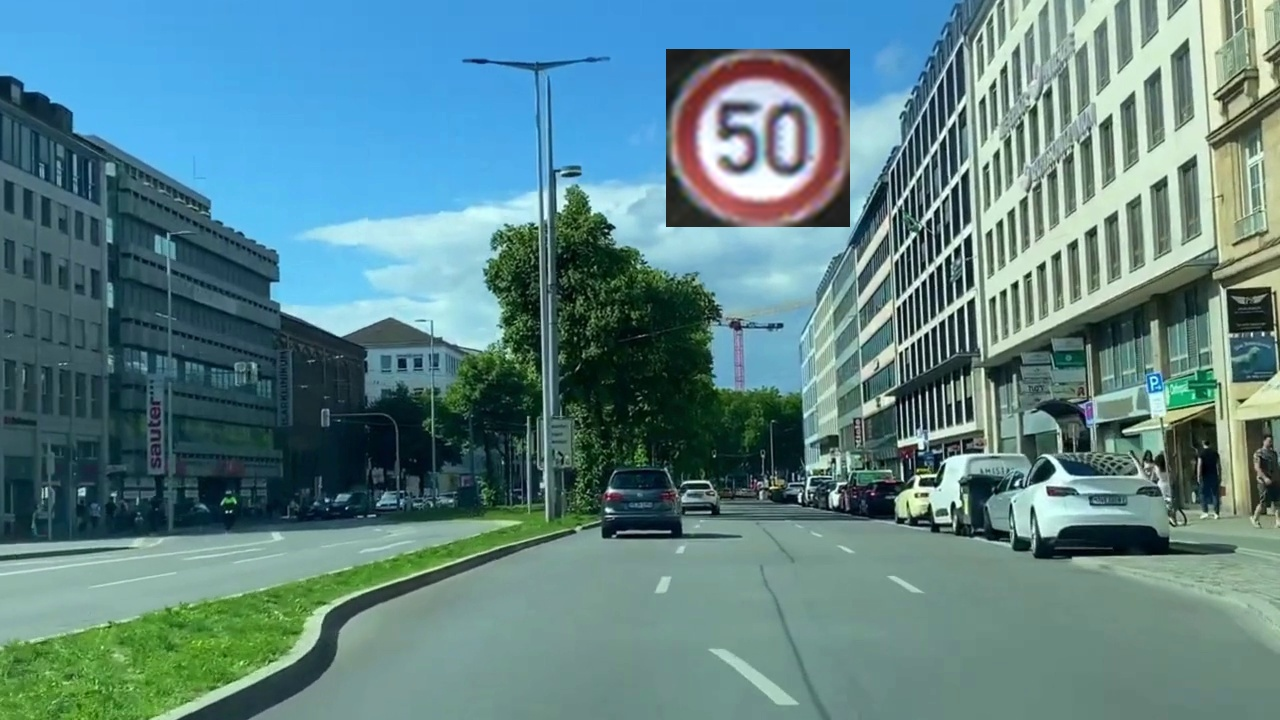Speed 50: (666, 49, 850, 227)
